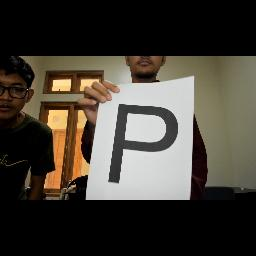p: (108, 98, 180, 190)
